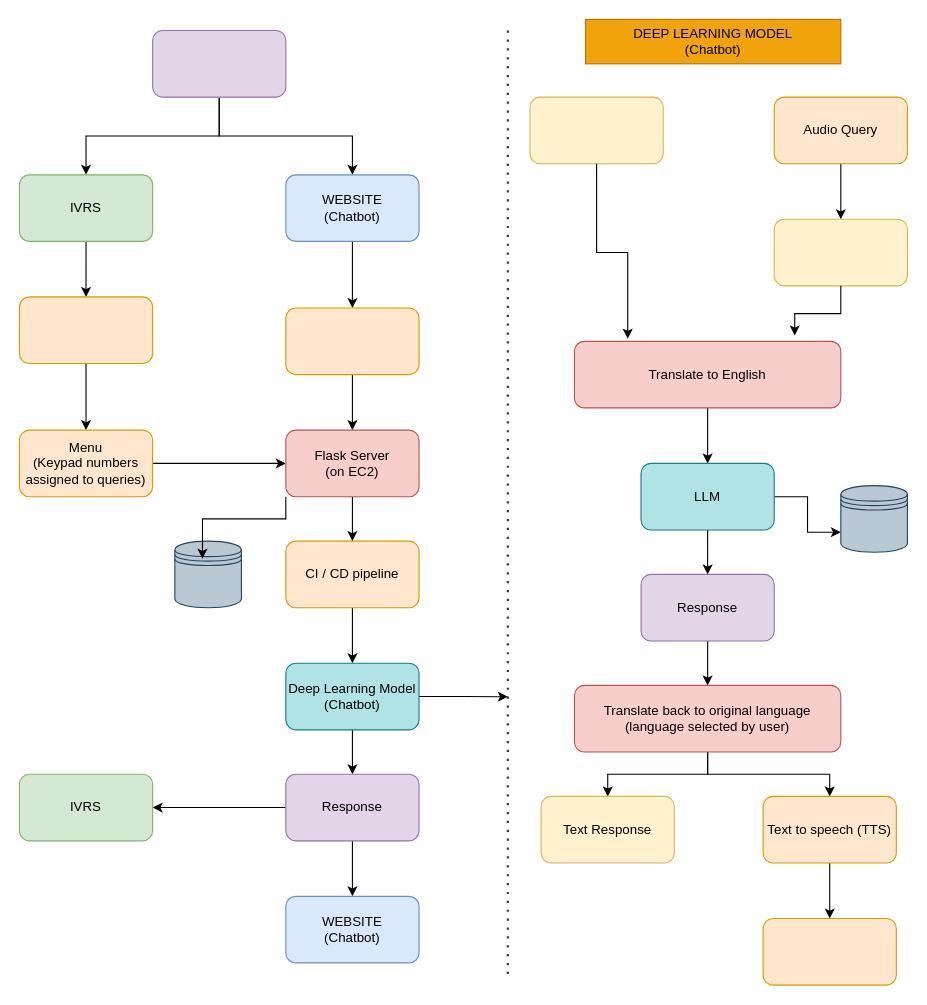
Image size: 927x1005. Some labels were removed from this diagram. Here are the shapes that lost their labels. From the top down, the centre of each, then its label:
At (219,63): "USER".
At (596,130): "Text Query".
At (840,252): "Speech to Text (ASR)".
At (85,330): "Keypad input for language selection".
At (352,341): "QUERY (Text/Audio)".
At (873,518): "Vector DB".
At (207,574): "Database".
At (829,951): "Audio Response".
